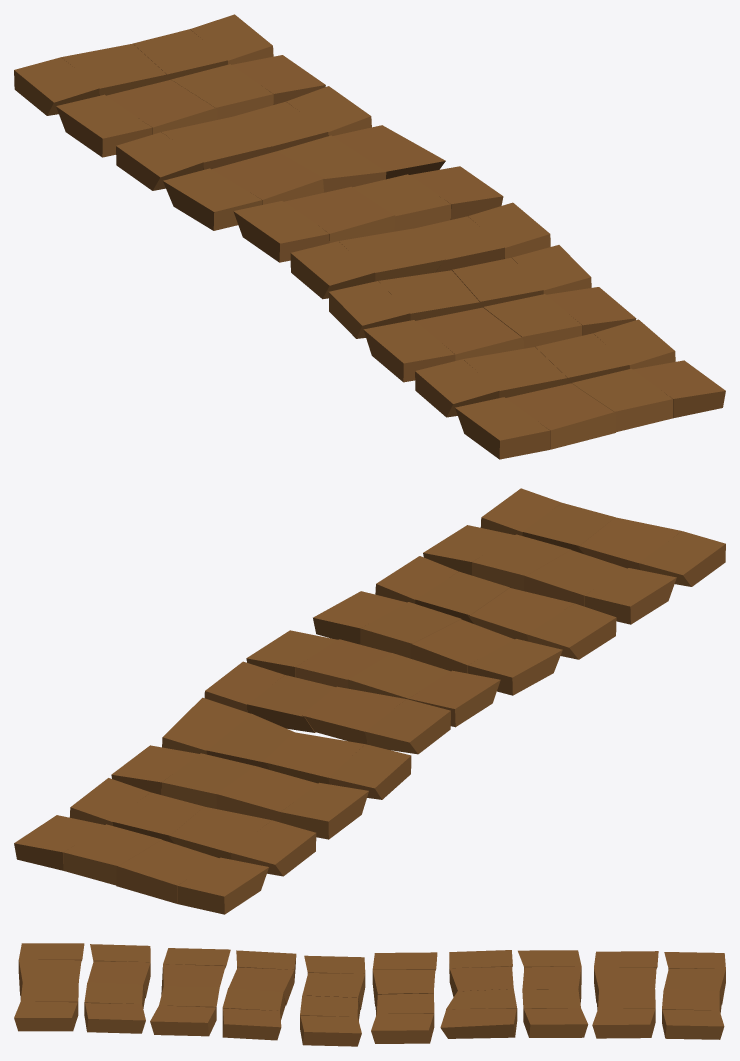
The model's file is path.fbx.
The picture shows the model from 3 angles, top to bottom: view 1: azimuth 30°, elevation 25°; view 2: azimuth 150°, elevation 25°; view 3: azimuth 270°, elevation 25°; orthographic projection. The views are drawn at different scales.
Parts seen in each view (by area): view 1: Cube.004, Cube.018, Cube.015, Cube.001, Cube.010, Cube.017, Cube.012, Cube.000, Cube.011, Cube.014, Cube.009, Cube.005 (+8 smaller); view 2: Cube.011, Cube.018, Cube.012, Cube.009, Cube.005, Cube.010, Cube.015, Cube.001, Cube.004, Cube.003, Cube.017, Cube.006 (+8 smaller); view 3: Cube.014, Cube.000, Cube.007, Cube.019, Cube.008, Cube.006, Cube.016, Cube.002, Cube.003, Cube.013, Cube.018, Cube.015 (+8 smaller).
Part boxes in pixels (x1=…): Cube.004: x1=455, y1=383, x2=616, y2=459; Cube.018: x1=233, y1=186, x2=395, y2=262; Cube.015: x1=163, y1=151, x2=324, y2=230; Cube.001: x1=56, y1=79, x2=217, y2=157; Cube.010: x1=363, y1=307, x2=523, y2=382; Cube.017: x1=290, y1=228, x2=445, y2=299; Cube.012: x1=116, y1=116, x2=271, y2=190; Cube.000: x1=571, y1=360, x2=725, y2=432; Cube.011: x1=14, y1=43, x2=168, y2=115; Cube.014: x1=277, y1=125, x2=445, y2=192; Cube.009: x1=415, y1=347, x2=569, y2=417; Cube.005: x1=328, y1=270, x2=482, y2=338; Cube.011: x1=116, y1=840, x2=268, y2=914; Cube.018: x1=302, y1=686, x2=450, y2=754; Cube.012: x1=216, y1=766, x2=368, y2=839; Cube.009: x1=524, y1=550, x2=676, y2=624; Cube.005: x1=410, y1=619, x2=562, y2=695; Cube.010: x1=467, y1=588, x2=616, y2=659; Cube.015: x1=263, y1=732, x2=411, y2=799; Cube.001: x1=168, y1=806, x2=316, y2=876; Cube.004: x1=577, y1=517, x2=725, y2=586; Cube.003: x1=14, y1=815, x2=161, y2=885; Cube.017: x1=348, y1=653, x2=500, y2=727; Cube.006: x1=313, y1=591, x2=460, y2=658; Cube.014: x1=440, y1=989, x2=517, y2=1038; Cube.000: x1=14, y1=981, x2=78, y2=1031; Cube.007: x1=150, y1=986, x2=219, y2=1036; Cube.019: x1=371, y1=992, x2=434, y2=1043; Cube.008: x1=84, y1=982, x2=145, y2=1033; Cube.006: x1=222, y1=988, x2=285, y2=1040; Cube.016: x1=300, y1=995, x2=361, y2=1046; Cube.002: x1=592, y1=988, x2=655, y2=1038; Cube.003: x1=662, y1=989, x2=724, y2=1039; Cube.013: x1=522, y1=989, x2=588, y2=1037; Cube.018: x1=372, y1=952, x2=437, y2=1006; Cube.015: x1=449, y1=950, x2=513, y2=996.
Size of the model in its own units: 741 by 72.38 by 2550.
